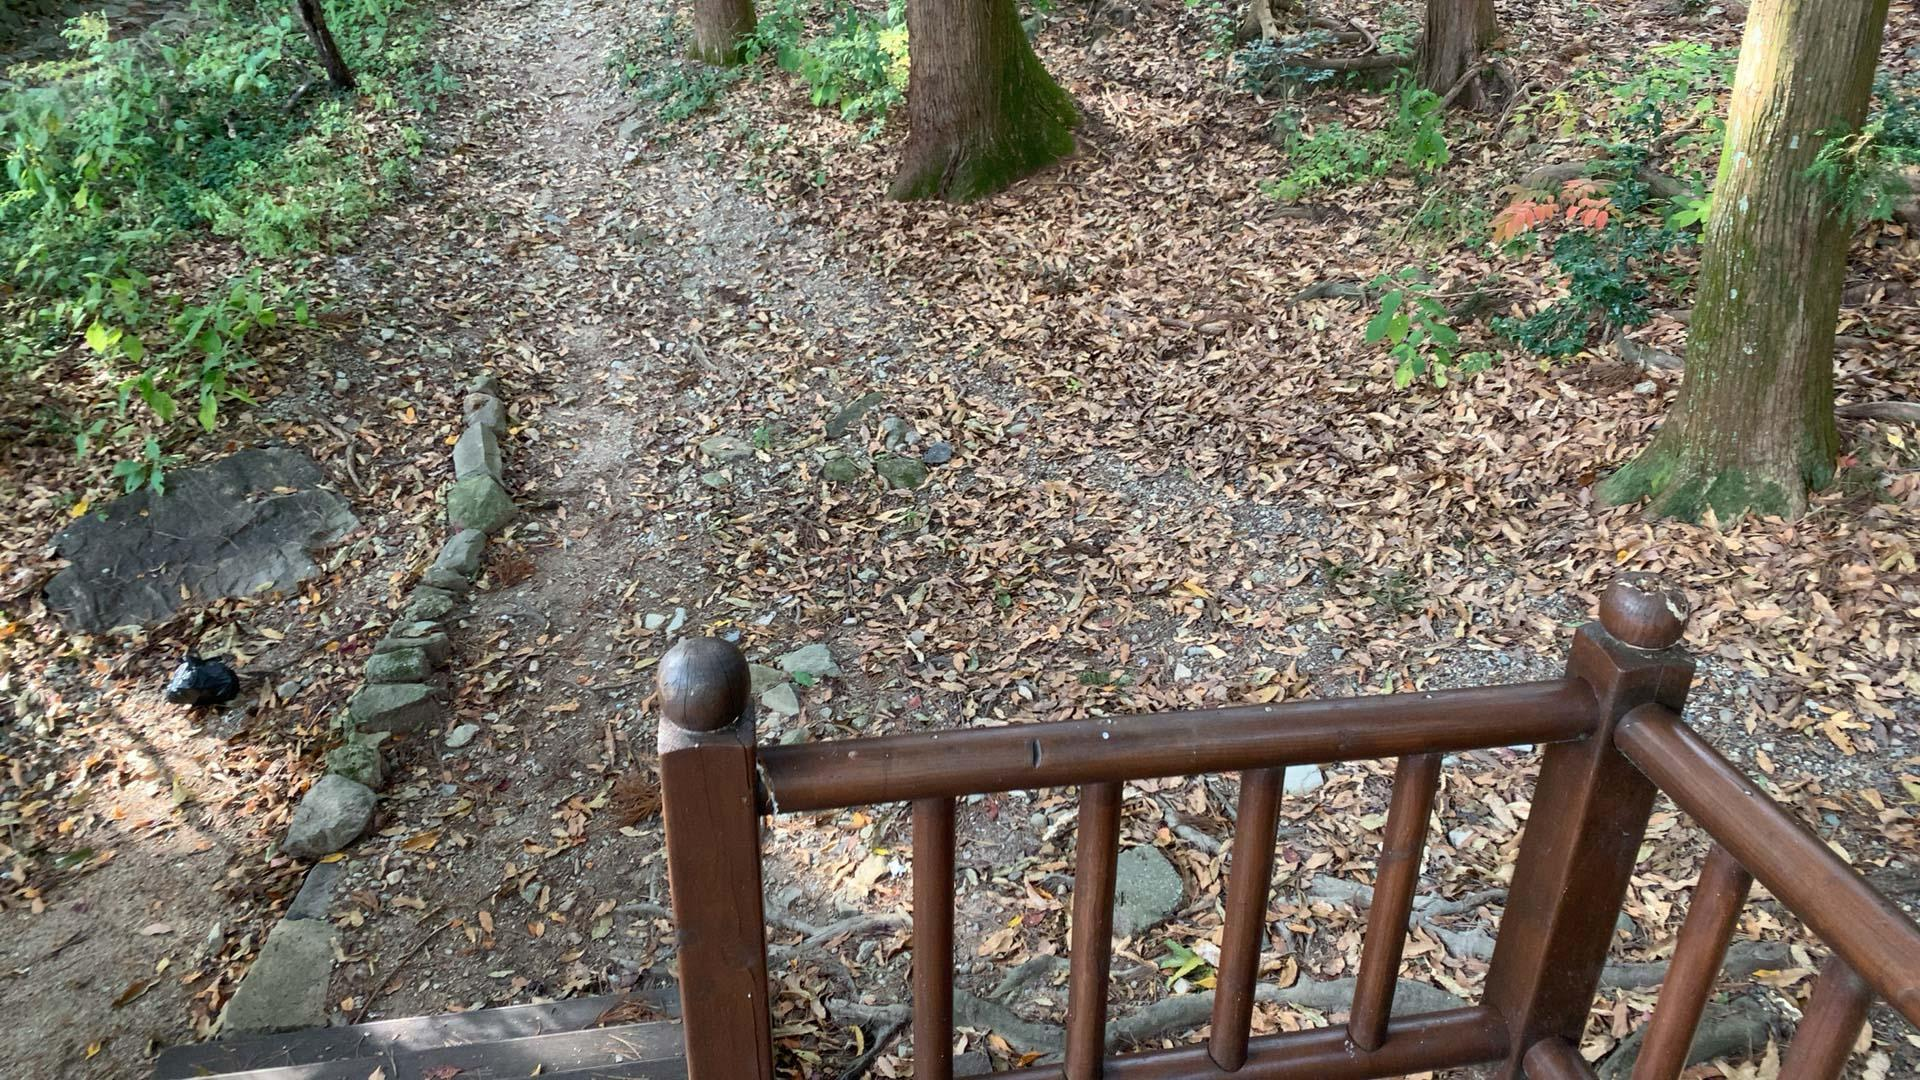black_bag: (158, 649, 244, 717)
